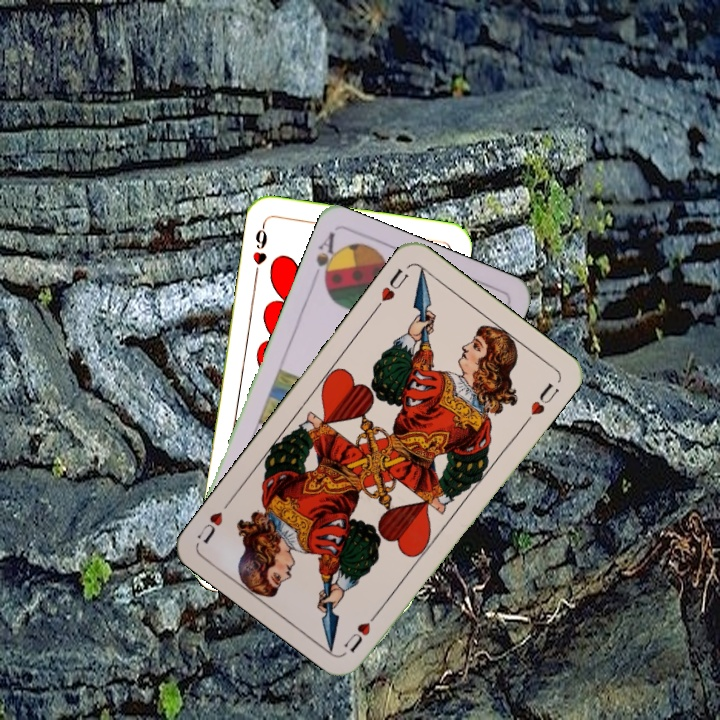H9: (248, 219, 270, 278)
HU: (339, 605, 384, 655), (371, 264, 411, 313)
SA: (311, 228, 343, 289)
